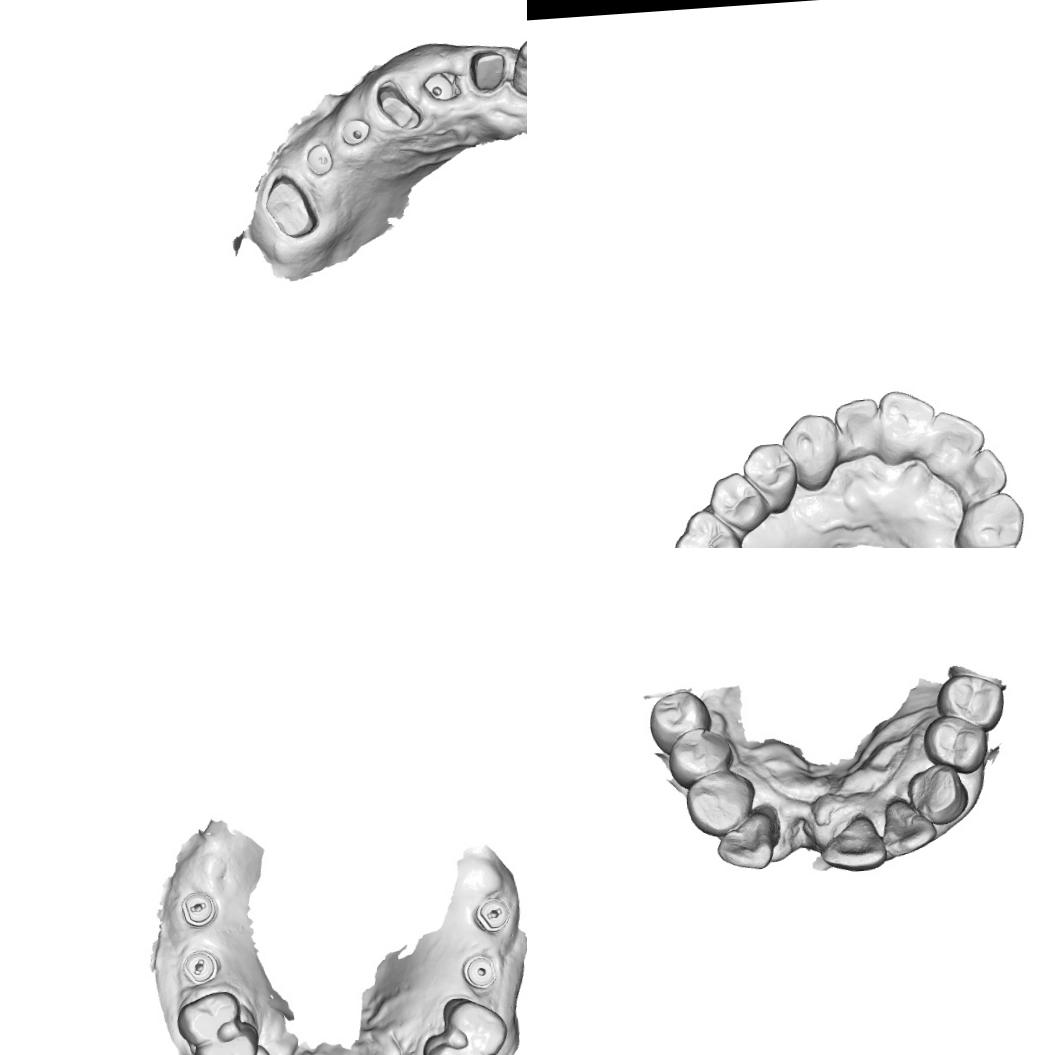canine: (778, 411, 842, 493), (713, 804, 779, 872), (950, 490, 1027, 548), (904, 761, 970, 826)
crown: (260, 170, 322, 244), (370, 76, 426, 136), (467, 45, 508, 98)
implant: (460, 952, 497, 991), (302, 138, 334, 180), (336, 111, 371, 147), (423, 68, 454, 105)
implant_minus: (178, 888, 218, 930), (472, 894, 512, 934), (180, 947, 221, 986)
incisor: (818, 812, 888, 874), (878, 792, 938, 858), (875, 386, 936, 440), (832, 396, 881, 459), (929, 406, 986, 458), (964, 446, 1010, 494), (506, 30, 527, 100)
molar: (646, 688, 714, 756), (669, 506, 744, 548)
premolar: (682, 766, 758, 840), (934, 670, 1006, 736), (666, 724, 736, 791), (920, 711, 990, 778), (740, 441, 799, 516), (173, 988, 243, 1048), (707, 470, 769, 534), (443, 996, 510, 1055), (189, 1023, 262, 1055), (432, 1043, 496, 1055)
